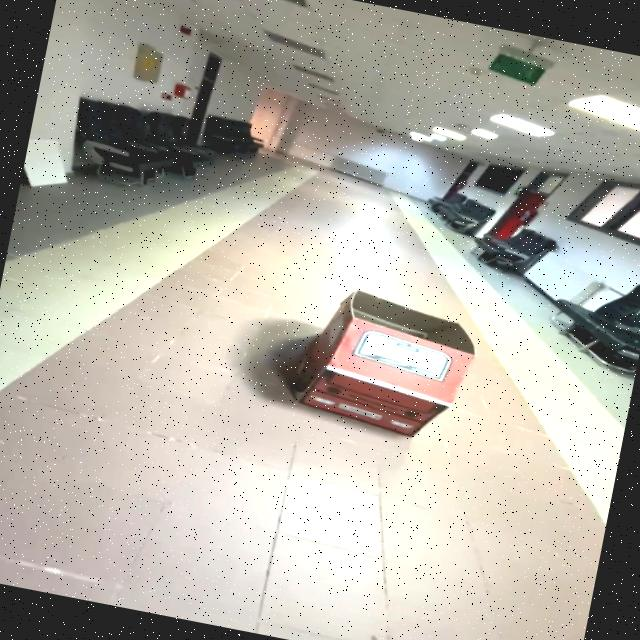red_car: (261, 275, 501, 462)
